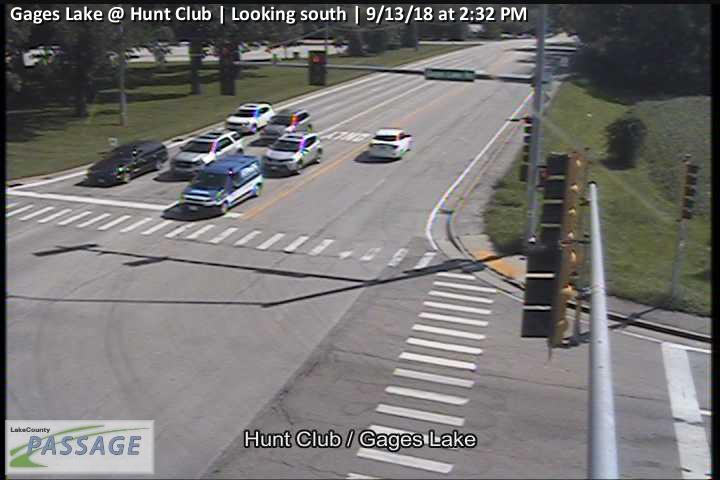SUV: (182, 155, 263, 214), (171, 129, 245, 179), (87, 140, 169, 183), (263, 130, 324, 175), (261, 107, 311, 143), (226, 102, 274, 135)
Sedan: (370, 129, 413, 159)
